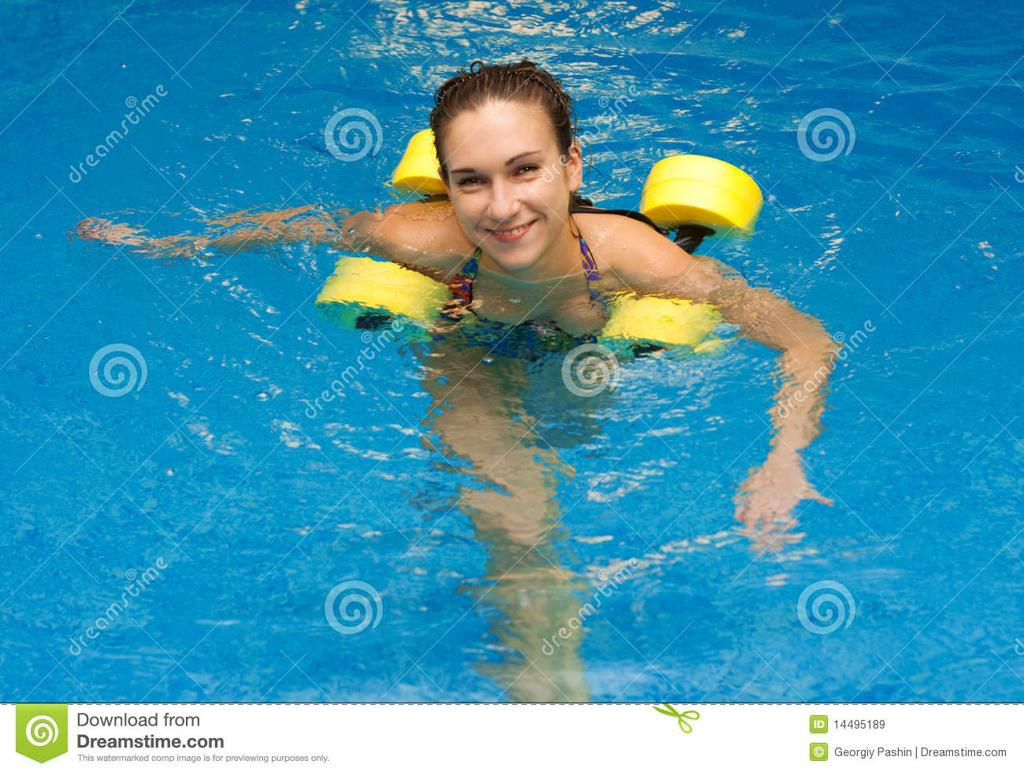face: (437, 105, 571, 275)
